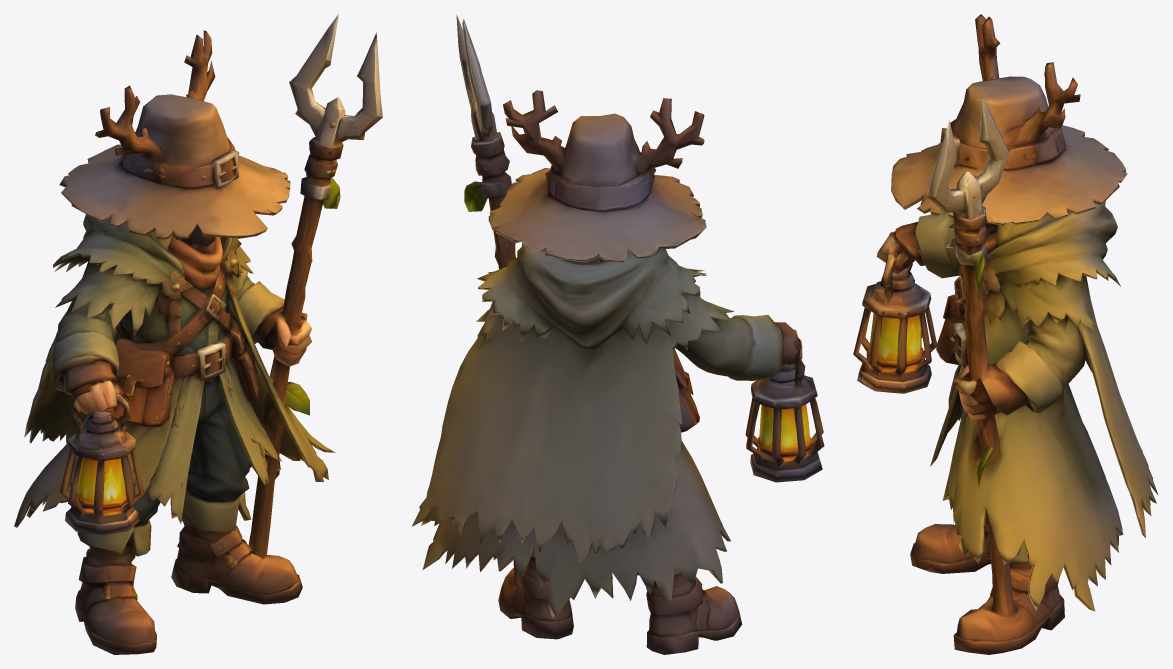
The model's file is hooded forest ranger 3d model.glb.
3 renders of one model, left to right at view 1: azimuth 30°, elevation 25°; view 2: azimuth 150°, elevation 25°; view 3: azimuth 270°, elevation 25°, orthographic. The views are drawn at different scales.
Visible parts, largest first — view 1: tripo_node_0b4e1e44-fda5-4645-aba3-dabcafad875e; view 2: tripo_node_0b4e1e44-fda5-4645-aba3-dabcafad875e; view 3: tripo_node_0b4e1e44-fda5-4645-aba3-dabcafad875e.
Part boxes in pixels (x1=…): tripo_node_0b4e1e44-fda5-4645-aba3-dabcafad875e: x1=14, y1=14, x2=382, y2=654; tripo_node_0b4e1e44-fda5-4645-aba3-dabcafad875e: x1=411, y1=15, x2=824, y2=654; tripo_node_0b4e1e44-fda5-4645-aba3-dabcafad875e: x1=853, y1=14, x2=1158, y2=654.
Size of the model in its own units: 0.6238 by 1 by 0.4737.
1 material, 1 textured.
